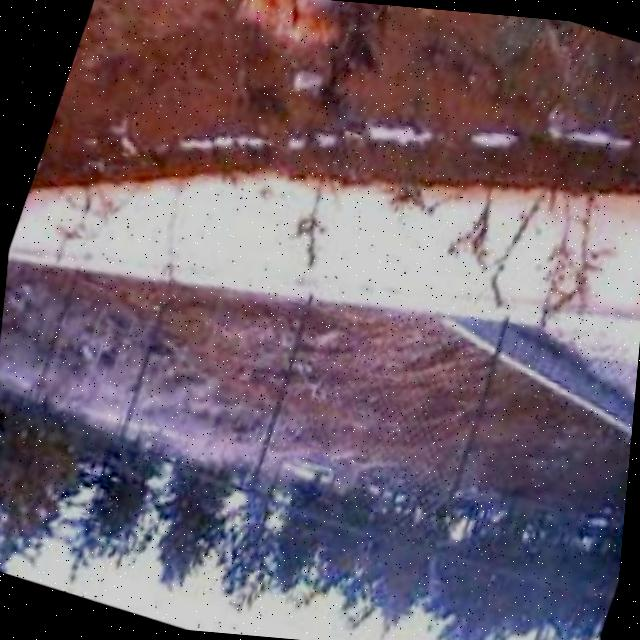fire: (209, 0, 362, 71)
